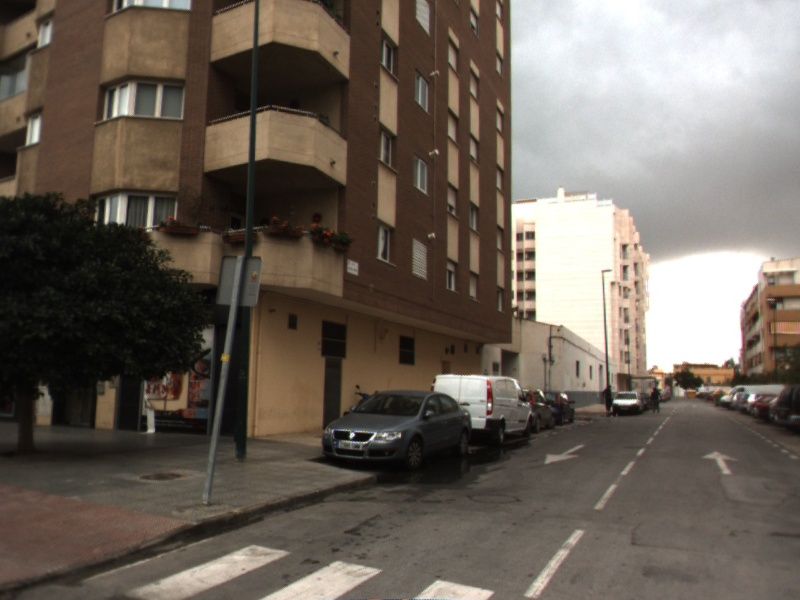STRAIGHT: (699, 450, 740, 476)
